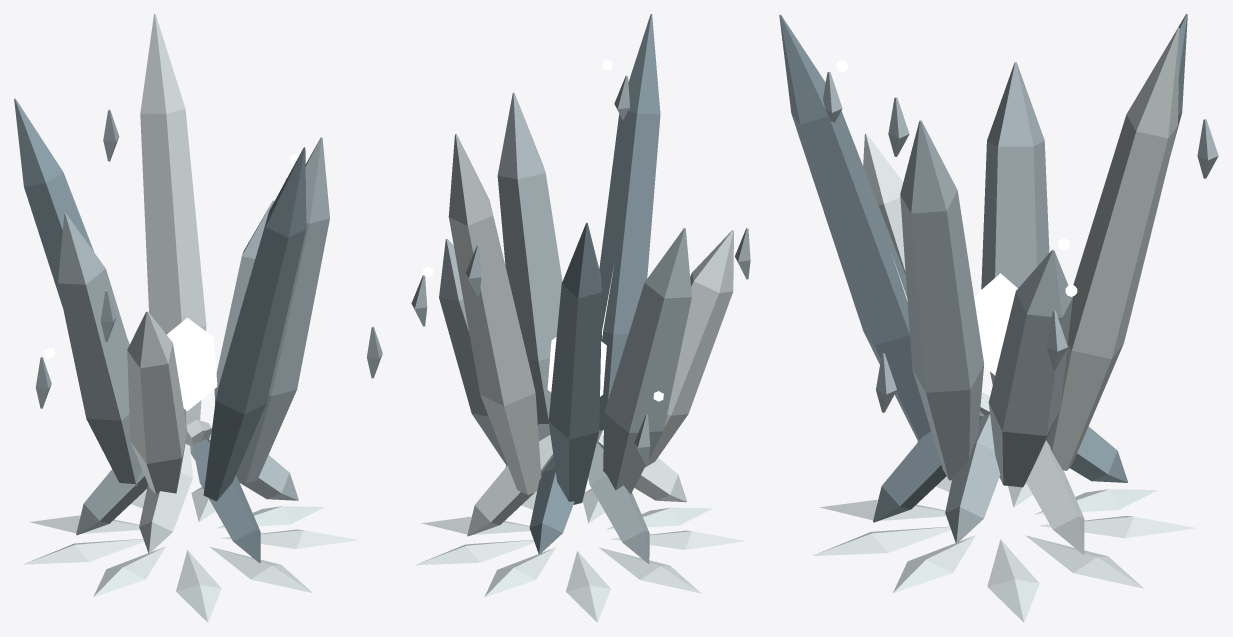
The model's file is aspect-frost.glb.
3 views of the same model, side by side, from view 1: azimuth 30°, elevation 25°; view 2: azimuth 150°, elevation 25°; view 3: azimuth 270°, elevation 25° (orthographic). The views are drawn at different scales.
Parts seen in each view (by area): view 1: rime_body; view 2: rime_body; view 3: rime_body.
Boxes of the visible parts, bbox=[...] form: rime_body: bbox=[14, 14, 382, 622]; rime_body: bbox=[411, 14, 750, 622]; rime_body: bbox=[779, 14, 1218, 622].
Size of the model in its own units: 0.5113 by 0.7804 by 0.5787.
